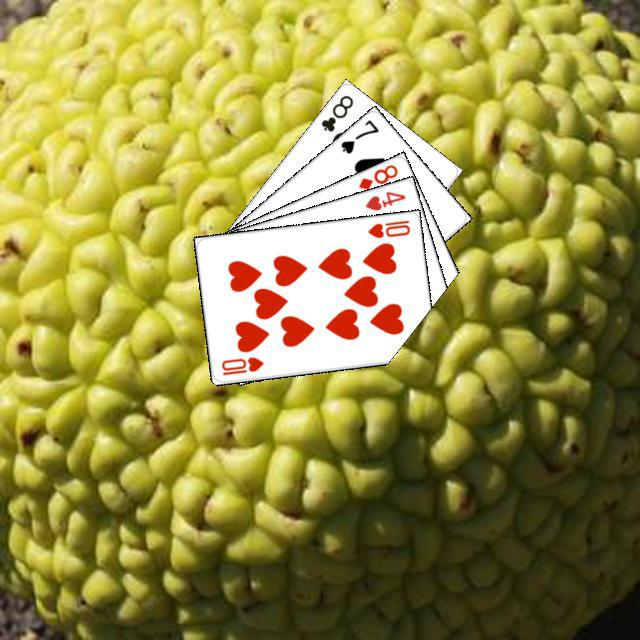10h: (363, 215, 412, 240), (217, 352, 265, 377)
4h: (360, 186, 407, 212)
7s: (336, 115, 380, 156)
8c: (316, 90, 355, 134)
8d: (353, 159, 400, 192)
